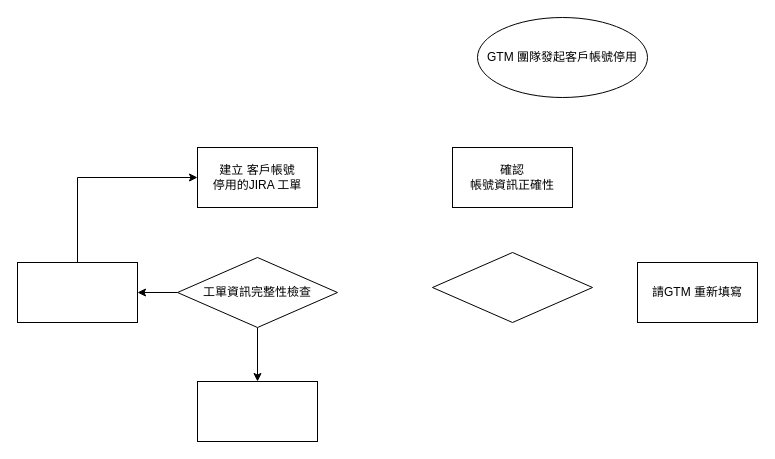
This 775x459 diagram has some shape labels left out. The shapes that lost their labels are listed below. From the top down, each one's centre as x and y in pixels, then its label:
At (x=77, y=292): "重新填寫".
At (x=512, y=287): "GTM 再次確認 帳號正確性".
At (x=257, y=411): "確保停用流程 一張工單一個客戶".
